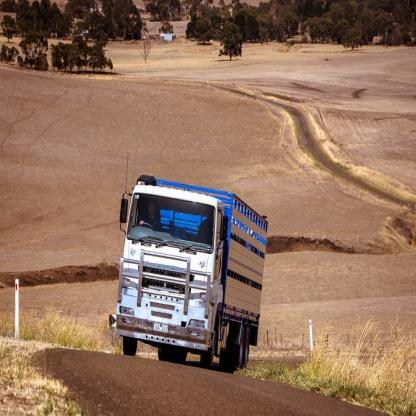truck: (109, 170, 270, 374)
